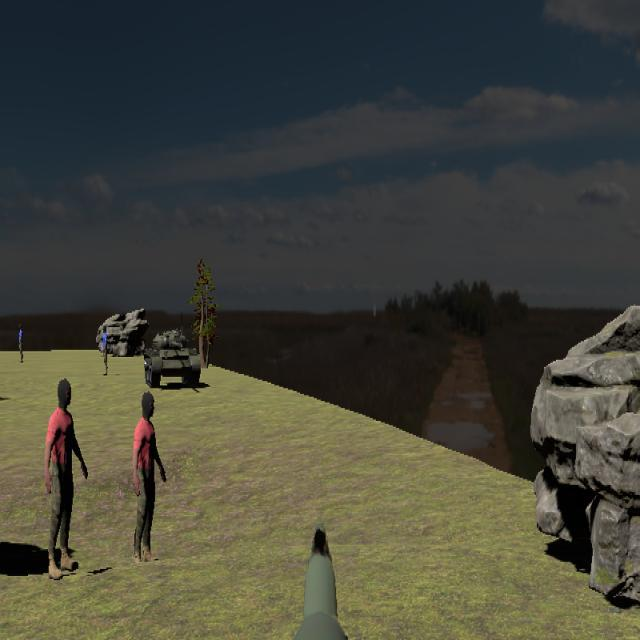Human: (45, 377, 89, 580), (132, 390, 167, 564)
Tank: (144, 325, 201, 389)
